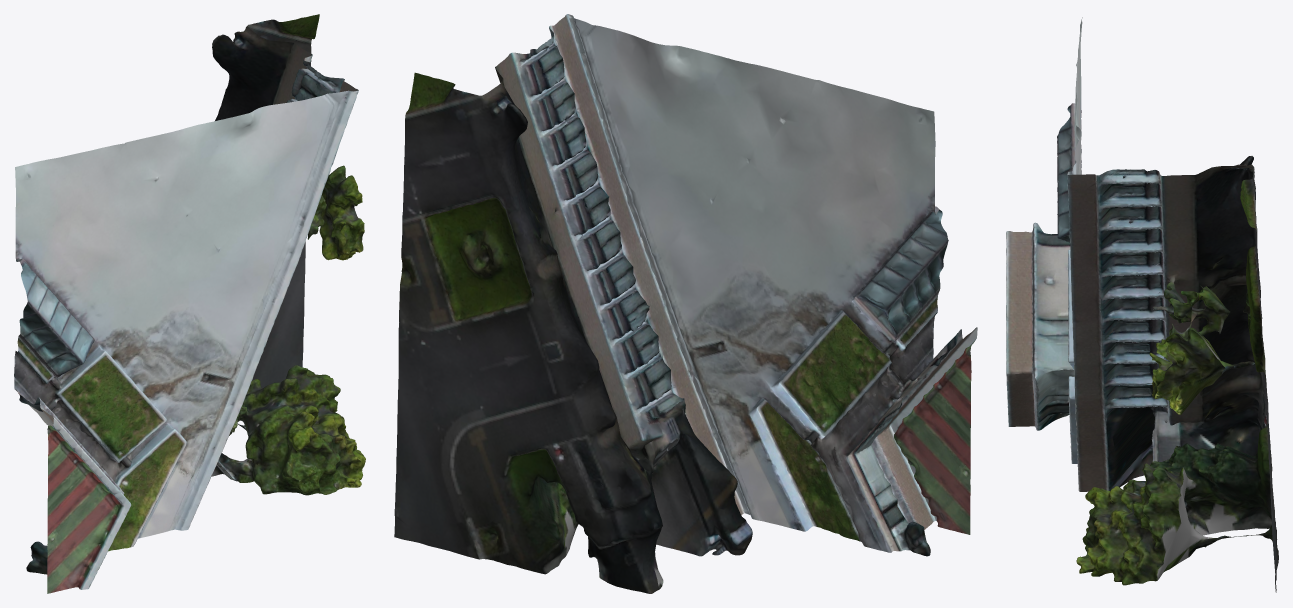
Rendered from Tile_+014_+017.fbx.
3 renders of one model, left to right at view 1: azimuth 30°, elevation 25°; view 2: azimuth 150°, elevation 25°; view 3: azimuth 270°, elevation 25°, orthographic. The views are drawn at different scales.
Parts seen in each view (by area): view 1: DefaultName; view 2: DefaultName; view 3: DefaultName.
Boxes of the visible parts, <box> form: DefaultName: <box>14,14,365,593</box>; DefaultName: <box>394,14,977,593</box>; DefaultName: <box>1006,17,1278,592</box>.
Size of the model in its own units: 22.54 by 22.54 by 14.1.
